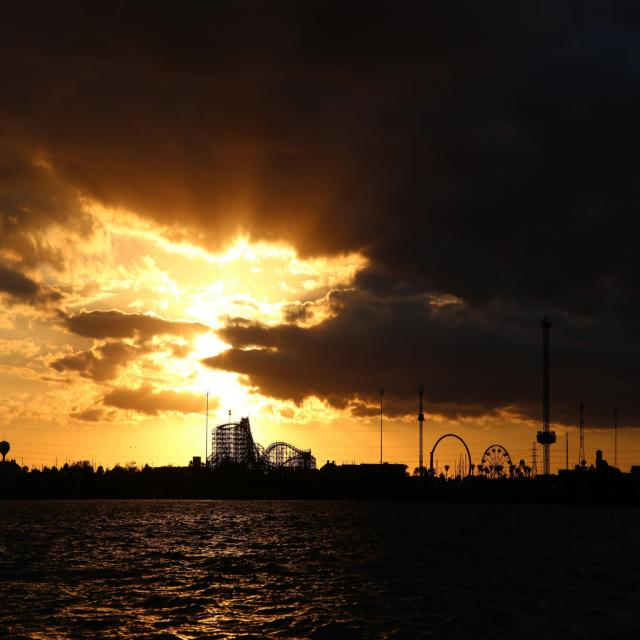no_fire: (9, 126, 488, 524)
